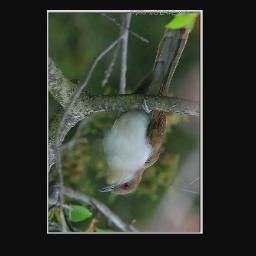Cuckoo: (97, 14, 195, 196)
